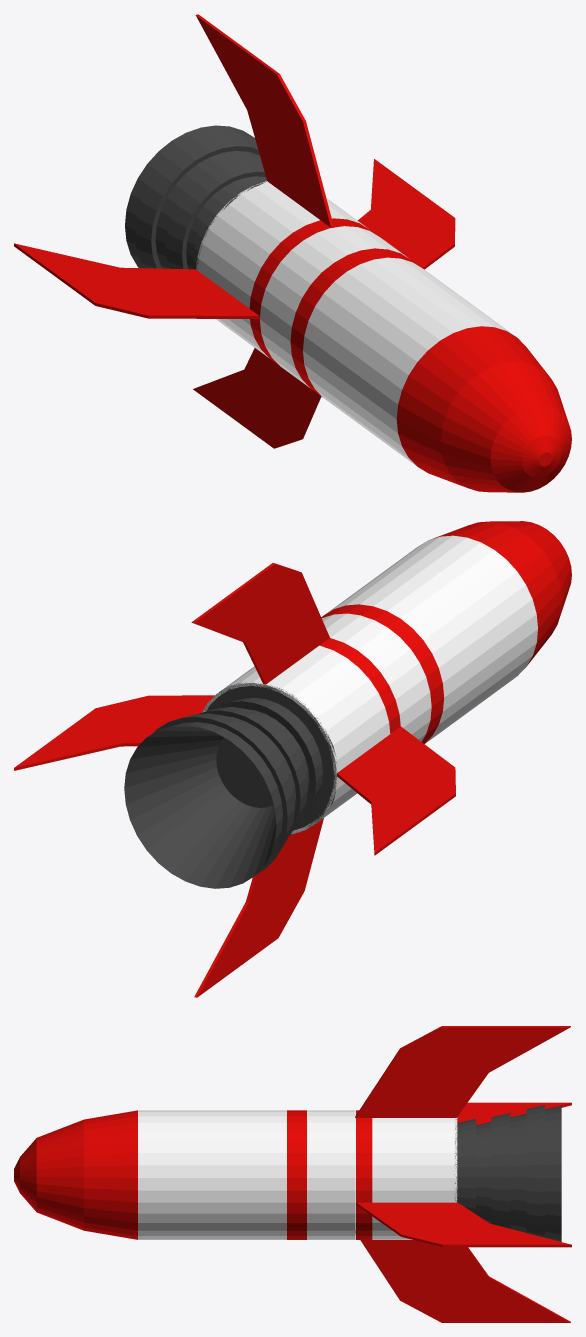
Rendered from Rocket1.fbx.
3 views of the same model, one above another, from view 1: azimuth 30°, elevation 25°; view 2: azimuth 150°, elevation 25°; view 3: azimuth 270°, elevation 25° (orthographic). The views are drawn at different scales.
Parts seen in each view (by area): view 1: Cylinder.004; view 2: Cylinder.004; view 3: Cylinder.004.
Part boxes in pixels (box(x1,y1,x2,y2)): Cylinder.004: box(14, 14, 571, 492); Cylinder.004: box(14, 521, 571, 997); Cylinder.004: box(14, 1026, 571, 1322).
Size of the model in its own units: 1.24 by 1.23 by 2.1.
